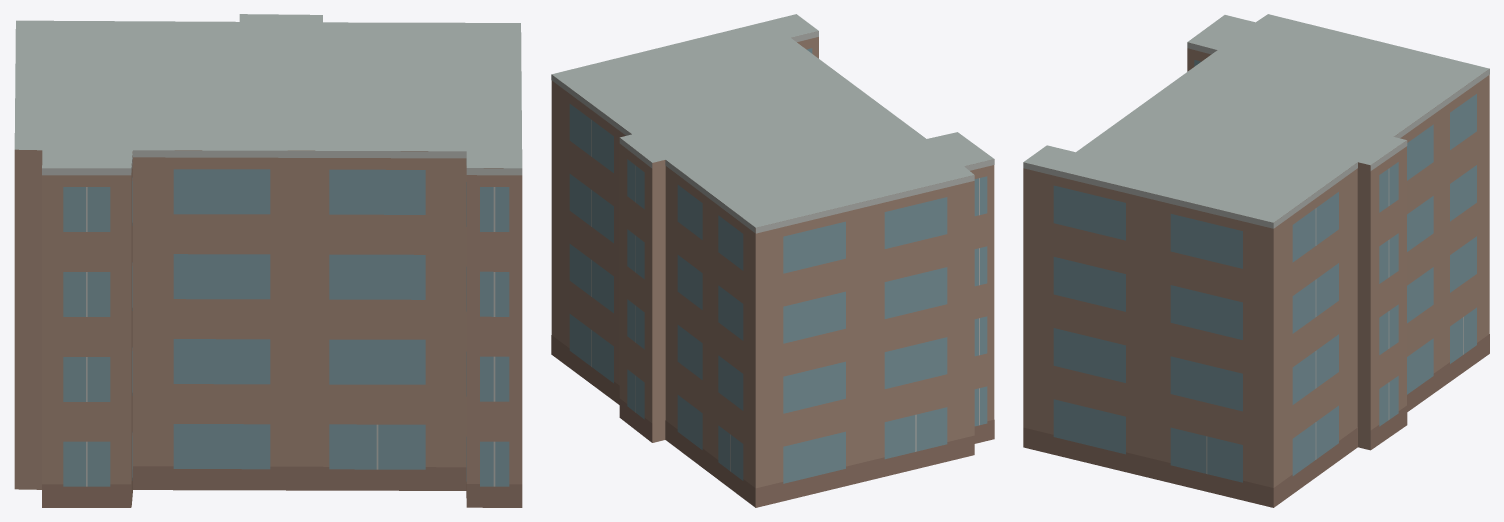
The model's file is survey-upis-32705776.glb.
3 views of the same model, side by side, from view 1: azimuth 30°, elevation 25°; view 2: azimuth 150°, elevation 25°; view 3: azimuth 270°, elevation 25° (orthographic). The views are drawn at different scales.
Visible parts, largest first — view 1: survey-upis-32705776.tmp; view 2: survey-upis-32705776.tmp; view 3: survey-upis-32705776.tmp.
Part boxes in pixels (x1,y1,x2,y2): survey-upis-32705776.tmp: (14, 14, 522, 507); survey-upis-32705776.tmp: (551, 14, 994, 507); survey-upis-32705776.tmp: (1023, 14, 1489, 507).
Size of the model in its own units: 18.23 by 11.6 by 17.21.
